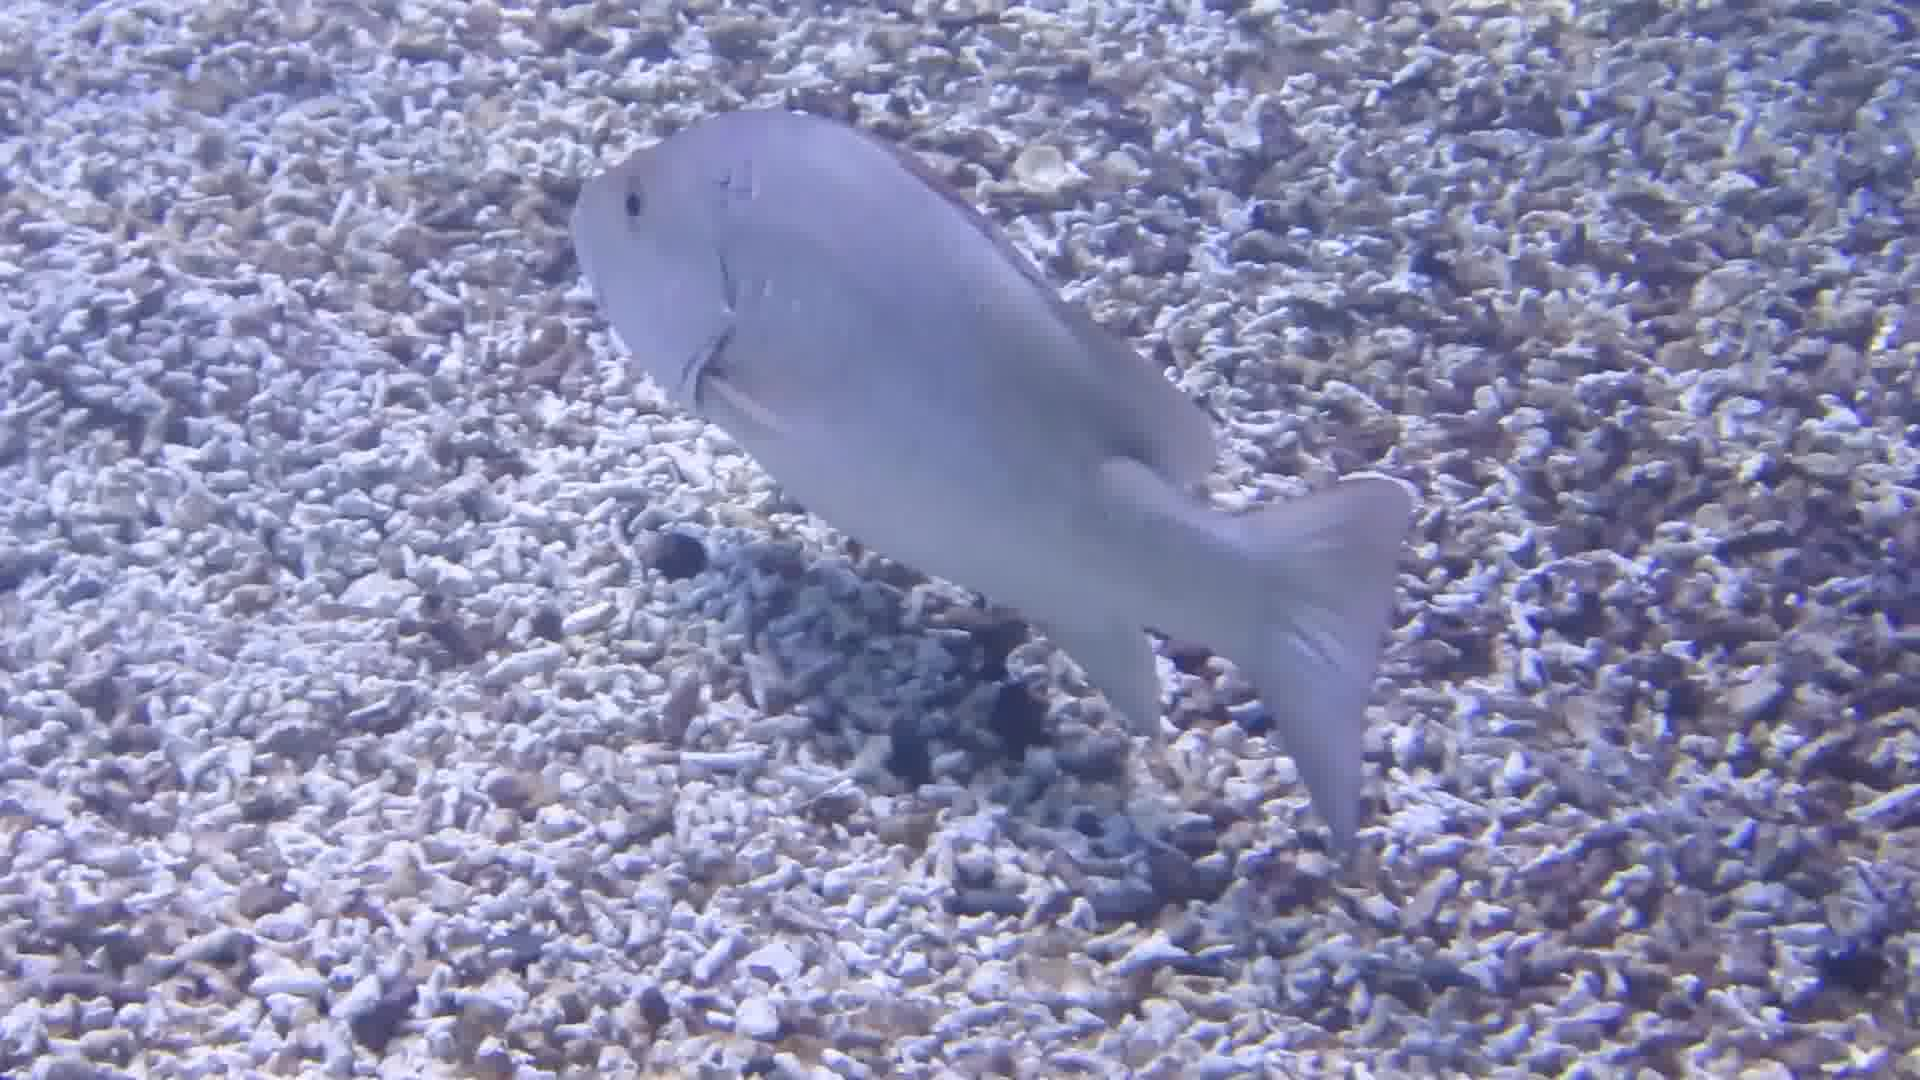Lutjanus argentimaculatus: (568, 113, 1251, 691)
